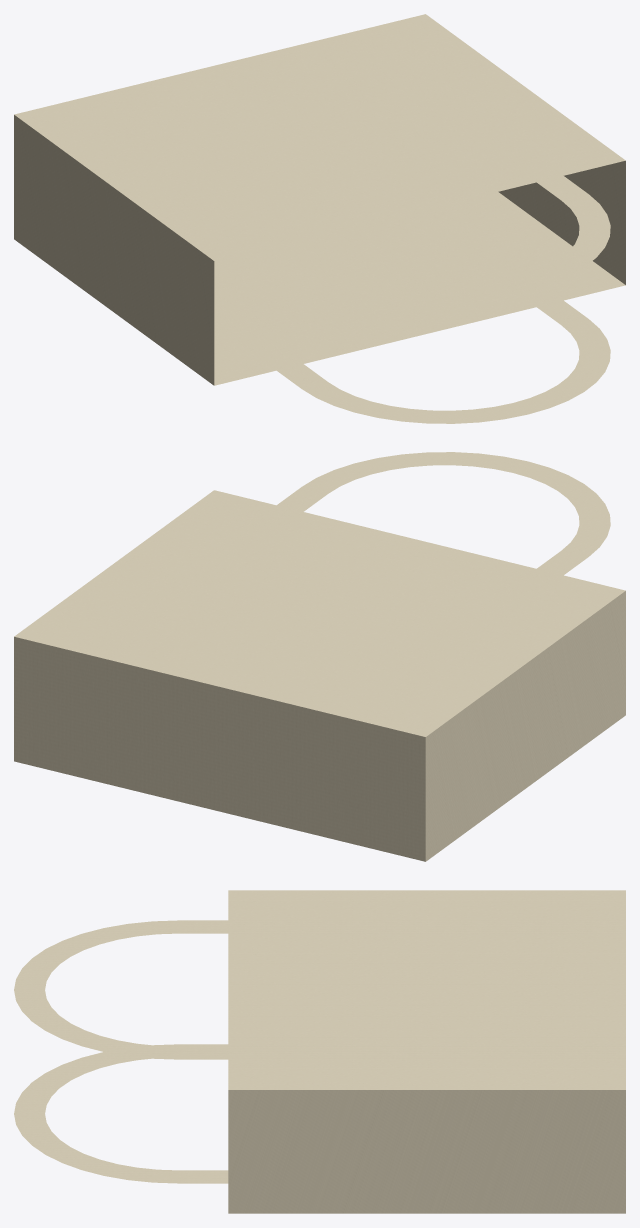
File: bag_coarse_initial_half_depth.obj
The picture shows the model from 3 angles, top to bottom: view 1: azimuth 30°, elevation 25°; view 2: azimuth 150°, elevation 25°; view 3: azimuth 270°, elevation 25°; orthographic projection.
Size of the model in its own units: 0.38 by 0.11 by 0.4925.
Materials: 1 (1 with a texture image).
